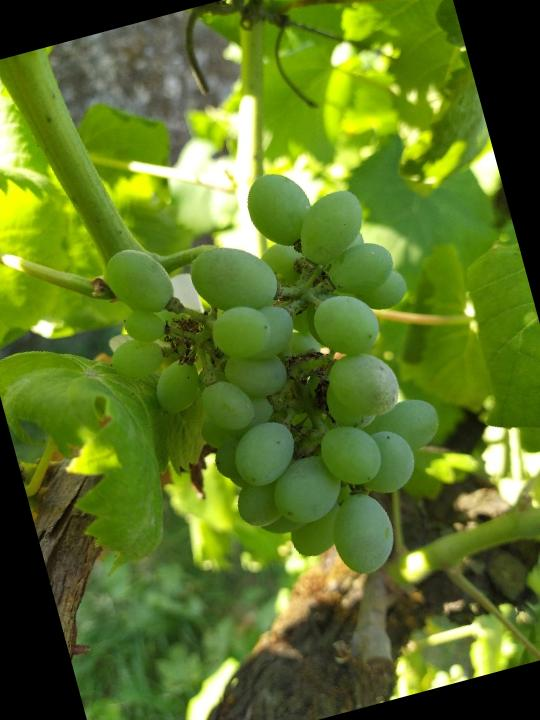grape: (68, 138, 485, 633)
